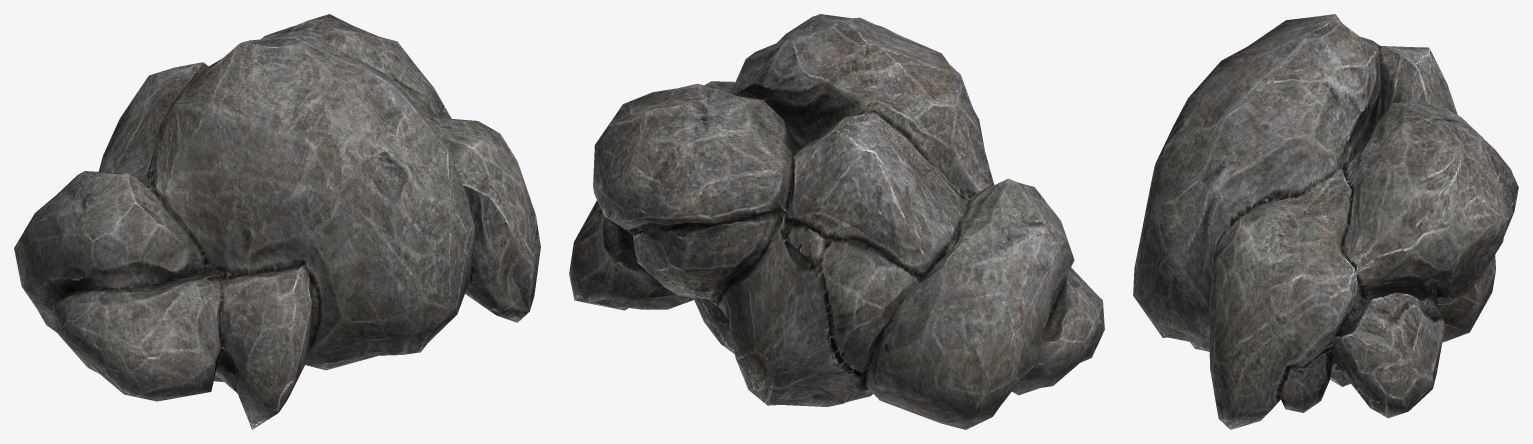
The model's file is rocks01.dae.
3 renders of one model, left to right at view 1: azimuth 30°, elevation 25°; view 2: azimuth 150°, elevation 25°; view 3: azimuth 270°, elevation 25°, orthographic. The views are drawn at different scales.
Parts seen in each view (by area): view 1: rocks01-col; view 2: rocks01-col; view 3: rocks01-col.
Part boxes in pixels (bbox=[...]): rocks01-col: bbox=[14, 14, 540, 429]; rocks01-col: bbox=[569, 14, 1104, 429]; rocks01-col: bbox=[1133, 14, 1518, 429].
Size of the model in its own units: 3.66 by 2.7 by 2.63.
Materials: 1 (1 with a texture image).
